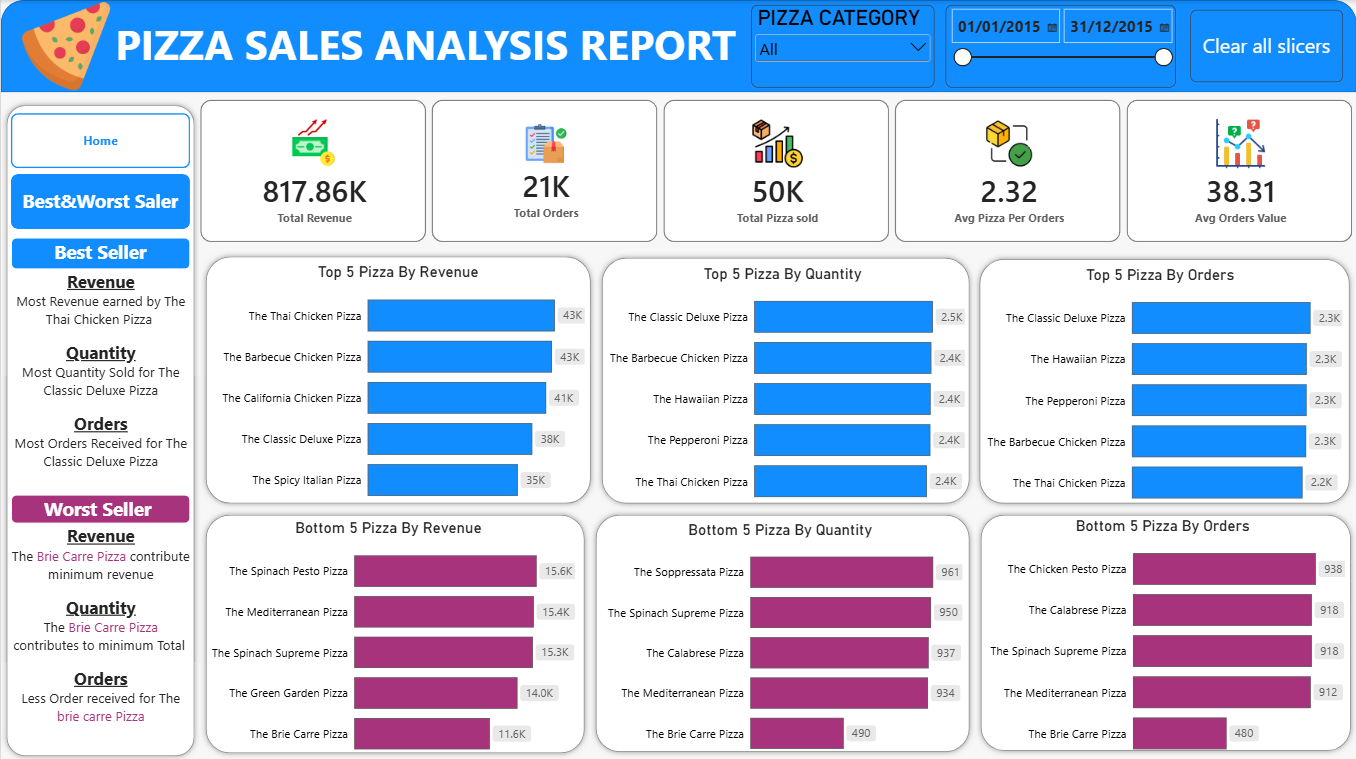

What the dashboard file says about the page in this screenshot:
{"tool":"powerbi","page":{"name":"Best&Worst Saler","canvas":[1920,1080],"ordinal":1},"visuals":[{"type":"cardVisual","fields":{"Data":["KPI.Total Revenue","KPI.Total Orders","KPI.Total Pizza sold","KPI.Avg Pizza Per Orders","KPI.Avg Orders Value"]},"box":[282.3,141.1,1634.4,202.1],"z":0},{"type":"shape","box":[0,0,1920.2,130.7],"z":1000},{"type":"shape","box":[0,141.1,282,938],"z":2000},{"type":"shape","box":[282.3,721.4,552.4,353.7],"z":3000},{"type":"shape","box":[834.6,721.4,545.4,352],"z":4000},{"type":"shape","box":[1380,721.4,540.2,350.2],"z":5000},{"type":"image","box":[0,0,184.7,130.7],"z":6000},{"type":"textbox","box":[162,20.9,895.6,102.8],"z":7000},{"type":"slicer","fields":{"Values":["pizza_sales.pizza_category"]},"box":[1062.9,7,259.6,116.7],"z":8000},{"type":"slicer","fields":{"Values":["Calender Table.Date"]},"box":[1338.2,7,325.8,116.7],"z":9000},{"type":"actionButton","box":[1685,13.9,216.1,102.8],"z":10000},{"type":"textbox","box":[13.9,336.3,254.4,45.3],"z":11000},{"type":"textbox","box":[13.9,700.5,254.4,41.8],"z":12000},{"type":"textbox","box":[13.3,381.7,255,318.3],"z":13000},{"type":"textbox","box":[13.3,741.7,255,330],"z":14000},{"type":"pageNavigator","box":[14,160,254.4,165.5],"z":15000},{"type":"shape","box":[282.3,355.5,561.1,365.9],"z":16000},{"type":"shape","box":[843.4,357.2,536.7,364.2],"z":17000},{"type":"shape","box":[1378.3,358.9,540.2,362.4],"z":18000},{"type":"barChart","title":"Top 5 Pizza By Revenue","fields":{"Category":["pizza_sales.pizza_name"],"Y":["KPI.Total Revenue"]},"box":[282.3,358.9,561.1,362.4],"z":19000},{"type":"barChart","title":"Bottom 5 Pizza By Revenue","fields":{"Category":["pizza_sales.pizza_name"],"Y":["KPI.Total Revenue"]},"box":[268.3,721.4,561.1,358.9],"z":20000},{"type":"barChart","title":"Top 5 Pizza By Quantity","fields":{"Category":["pizza_sales.pizza_name"],"Y":["KPI.Total Pizza sold"]},"box":[832.9,360.7,548.9,362.4],"z":21000},{"type":"barChart","title":"Bottom 5 Pizza By Quantity","fields":{"Category":["pizza_sales.pizza_name"],"Y":["KPI.Total Pizza sold"]},"box":[829.3,723.1,548.8,356.5],"z":22000},{"type":"barChart","title":"Top 5 Pizza By Orders","fields":{"Category":["pizza_sales.pizza_name"],"Y":["KPI.Total Orders"]},"box":[1368.1,362.5,548.9,362.4],"z":23000},{"type":"barChart","title":"Bottom 5 Pizza By Orders","fields":{"Category":["pizza_sales.pizza_name"],"Y":["KPI.Total Orders"]},"box":[1372.1,717.1,548.9,362.4],"z":24000}]}

Visuals, with their boxes in screenshot pixels (x1, y1, x2, y2), scaled from the page's 1920x1080 canvas onto the 1356x759 screenshot:
cardVisual - KPI.Total Revenue x KPI.Total Orders: rect(199, 99, 1354, 241)
shape: rect(0, 0, 1355, 92)
shape: rect(0, 99, 199, 758)
shape: rect(199, 507, 590, 756)
shape: rect(589, 507, 975, 754)
shape: rect(975, 507, 1355, 753)
image: rect(0, 0, 130, 92)
textbox: rect(114, 15, 747, 87)
slicer - pizza_sales.pizza_category: rect(751, 5, 934, 87)
slicer - Calender Table.Date: rect(945, 5, 1175, 87)
actionButton: rect(1190, 10, 1343, 82)
textbox: rect(10, 236, 189, 268)
textbox: rect(10, 492, 189, 522)
textbox: rect(9, 268, 189, 492)
textbox: rect(9, 521, 189, 753)
pageNavigator: rect(10, 112, 190, 229)
shape: rect(199, 250, 596, 507)
shape: rect(596, 251, 975, 507)
shape: rect(973, 252, 1355, 507)
"Top 5 Pizza By Revenue" barChart: rect(199, 252, 596, 507)
"Bottom 5 Pizza By Revenue" barChart: rect(189, 507, 586, 758)
"Top 5 Pizza By Quantity" barChart: rect(588, 253, 976, 508)
"Bottom 5 Pizza By Quantity" barChart: rect(586, 508, 973, 758)
"Top 5 Pizza By Orders" barChart: rect(966, 255, 1354, 509)
"Bottom 5 Pizza By Orders" barChart: rect(969, 504, 1355, 758)
